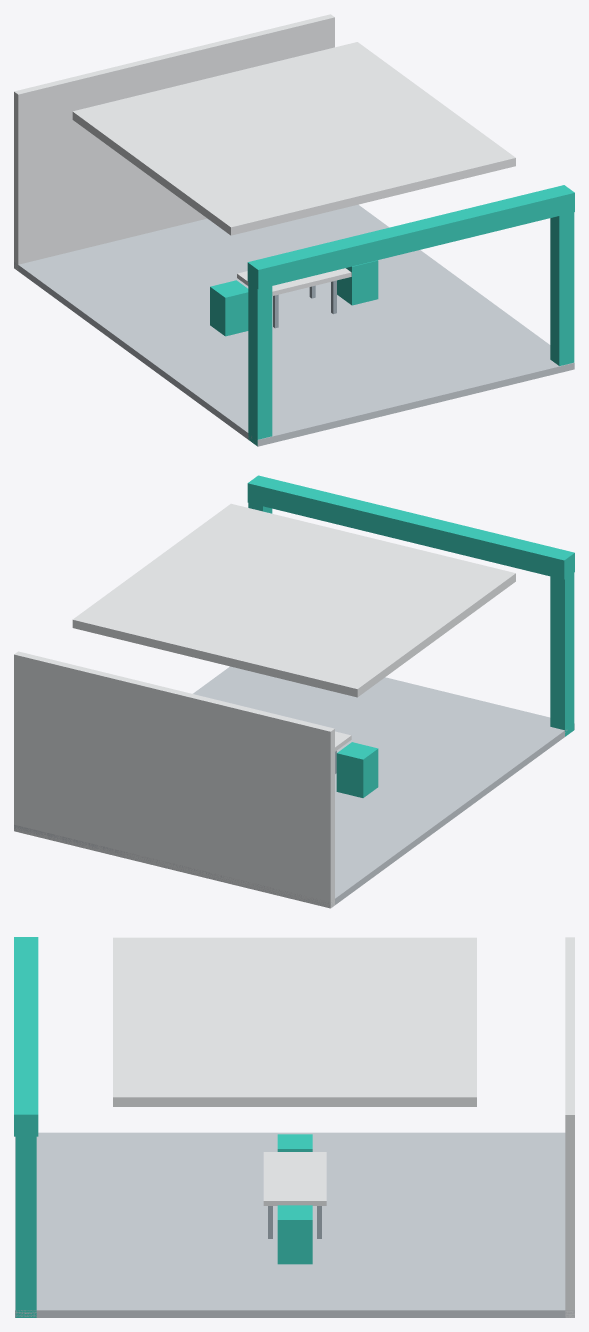
The picture shows the model from 3 angles, top to bottom: view 1: azimuth 30°, elevation 25°; view 2: azimuth 150°, elevation 25°; view 3: azimuth 270°, elevation 25°; orthographic projection. The views are drawn at different scales.
Parts seen in each view (by area): view 1: Exhibition Booth Concept; view 2: Exhibition Booth Concept; view 3: Exhibition Booth Concept.
Boxes of the visible parts, box(x1,y1,x2,y2) form: Exhibition Booth Concept: box(14, 14, 574, 446); Exhibition Booth Concept: box(14, 475, 574, 908); Exhibition Booth Concept: box(14, 937, 574, 1317).
Bounding box in the file's own units: 6 × 3.34 × 8.01.
